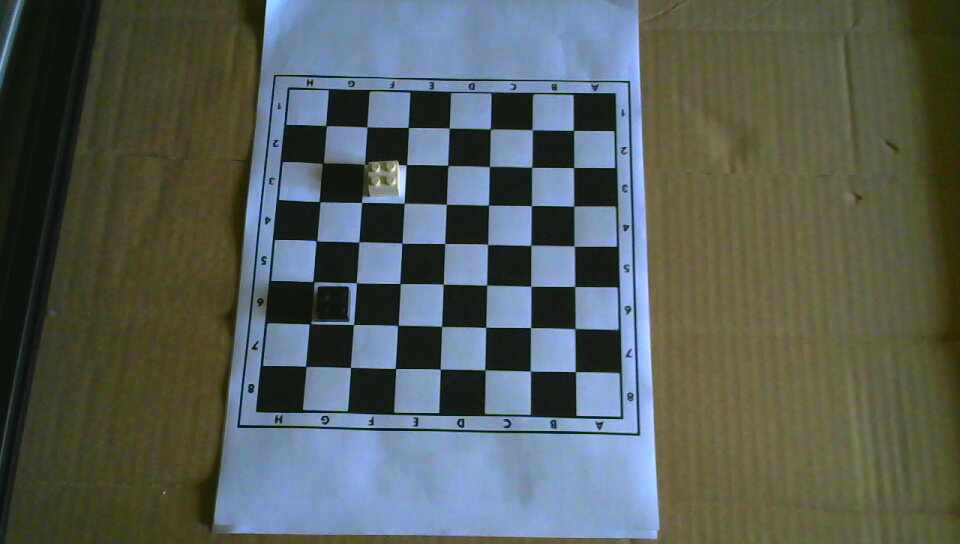bp: (315, 284, 351, 322)
wp: (364, 159, 402, 197)
